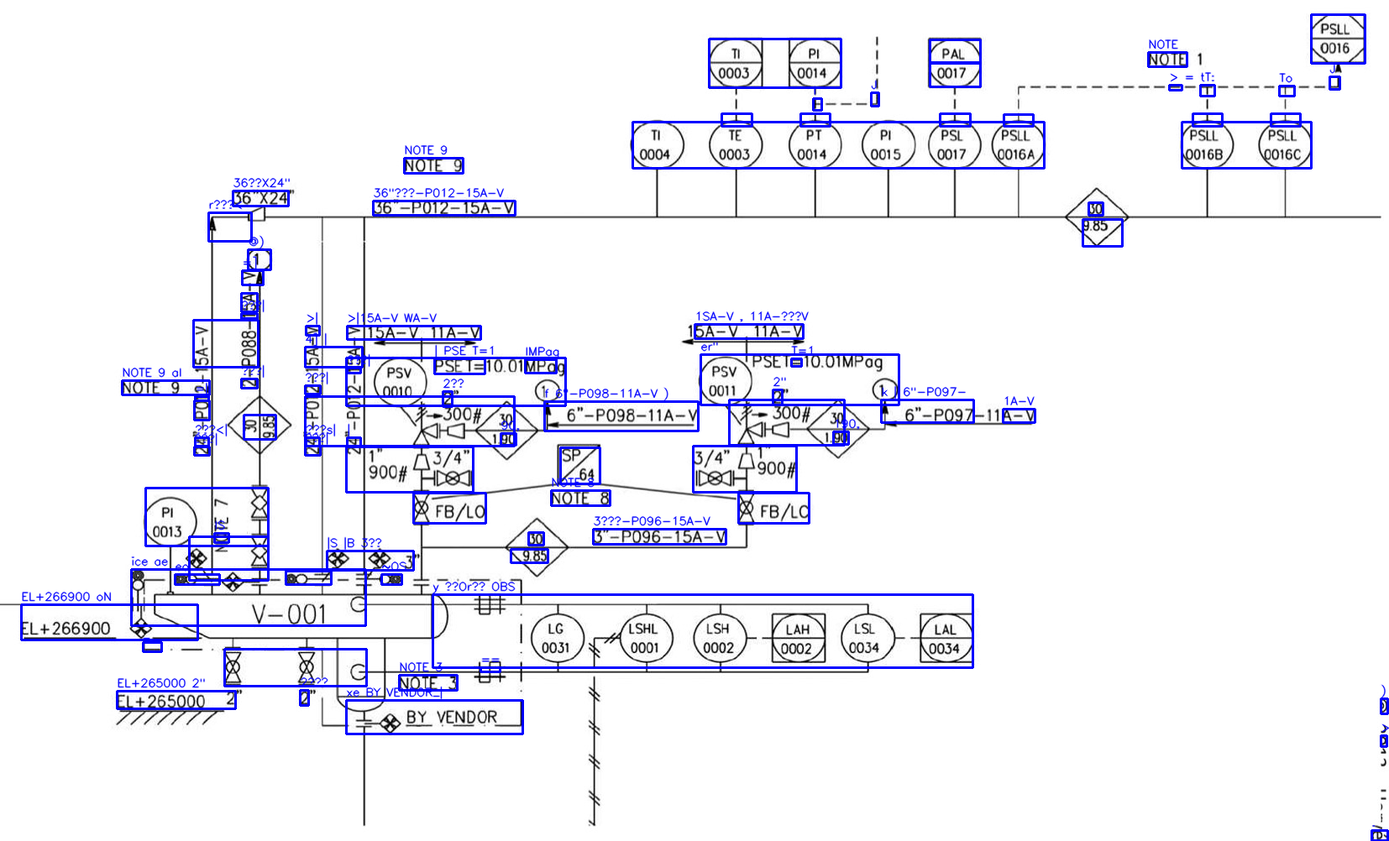Instrumento: (616, 611, 679, 664), (786, 34, 845, 90), (706, 36, 767, 89), (925, 36, 983, 90), (859, 118, 917, 171), (926, 118, 983, 171), (528, 611, 585, 664), (707, 118, 765, 170), (629, 118, 685, 171), (142, 494, 198, 547), (788, 118, 843, 170)
Outro: (1309, 9, 1369, 65), (1177, 115, 1236, 170), (1255, 118, 1314, 171), (988, 118, 1047, 169)
Vaso: (151, 592, 452, 642)
